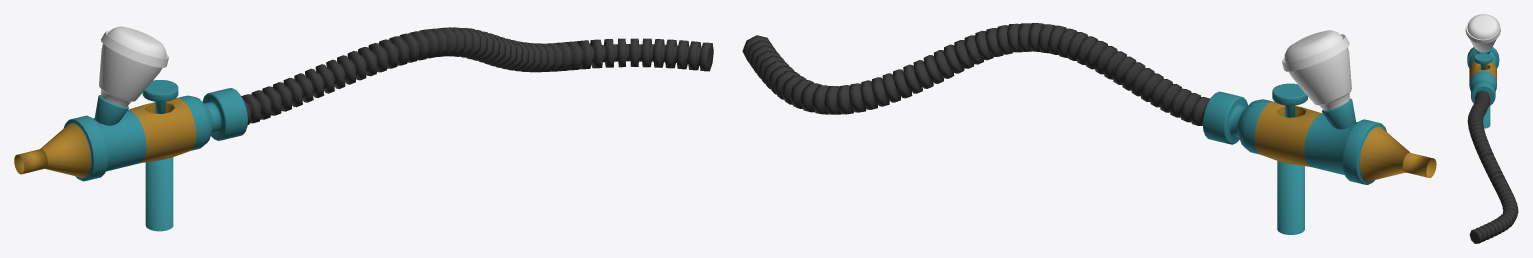
Rendered from Spray_gun (1).fbx.
3 views of the same model, side by side, from view 1: azimuth 30°, elevation 25°; view 2: azimuth 150°, elevation 25°; view 3: azimuth 270°, elevation 25° (orthographic). The views are drawn at different scales.
Visible parts, largest first — view 1: Pipe, Spray gun, Spray gun_top, Spray gun Button; view 2: Pipe, Spray gun, Spray gun_top, Spray gun Button; view 3: Pipe, Spray gun, Spray gun_top, Spray gun Button.
Boxes of the visible parts, x1,y1,x2,y2 form: Pipe: [241, 27, 713, 124]; Spray gun: [14, 88, 247, 231]; Spray gun_top: [99, 26, 168, 106]; Spray gun Button: [142, 80, 178, 113]; Pipe: [742, 23, 1209, 125]; Spray gun: [1202, 91, 1436, 234]; Spray gun_top: [1282, 30, 1351, 110]; Spray gun Button: [1272, 83, 1307, 117]; Pipe: [1467, 90, 1518, 243]; Spray gun: [1467, 47, 1499, 128]; Spray gun_top: [1465, 14, 1500, 52]; Spray gun Button: [1474, 53, 1492, 69].
Size of the model in its own units: 112 by 31.37 by 14.87.
